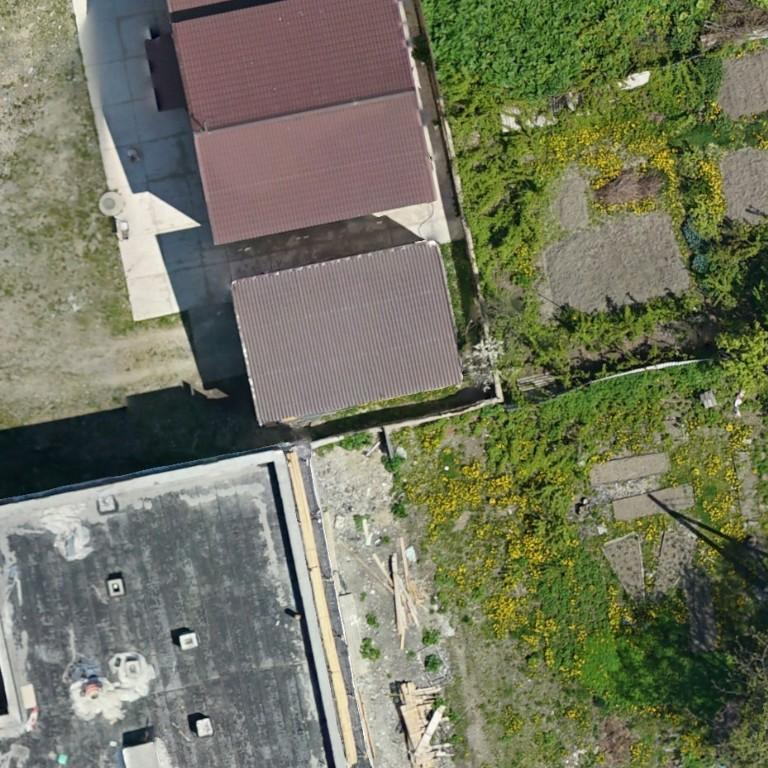hogweed: (421, 0, 660, 101)
